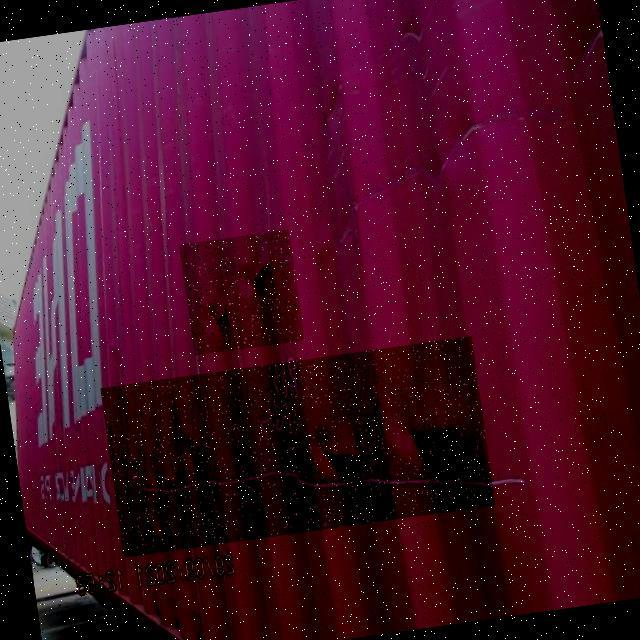Dent: (101, 337, 496, 558)
Minor-Dent: (179, 230, 305, 356)
